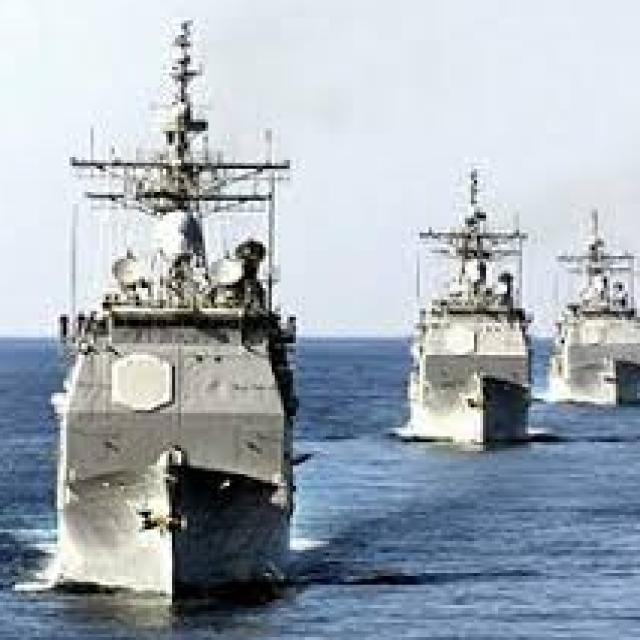navalvessels: (23, 27, 303, 590), (399, 193, 541, 450), (558, 218, 640, 404)
